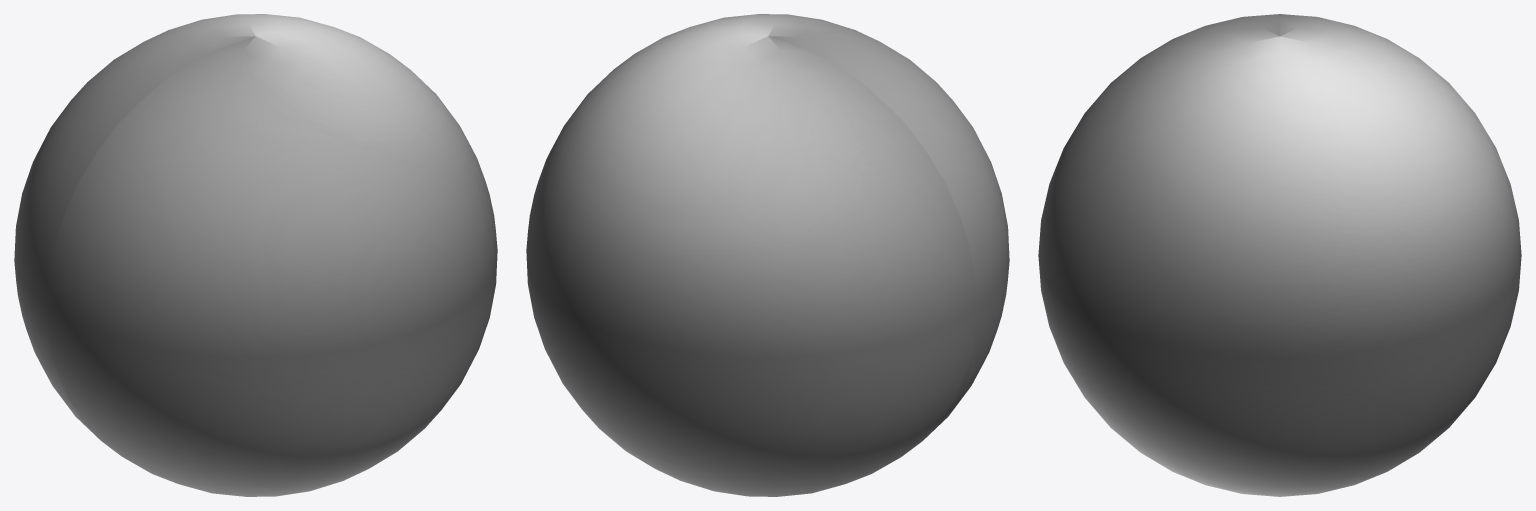
The model's file is Bola.obj.
3 renders of one model, left to right at view 1: azimuth 30°, elevation 25°; view 2: azimuth 150°, elevation 25°; view 3: azimuth 270°, elevation 25°, orthographic.
Visible parts, largest first — view 1: GeoSphere001; view 2: GeoSphere001; view 3: GeoSphere001.
Boxes of the visible parts, x1=… form: GeoSphere001: x1=14, y1=14, x2=497, y2=496; GeoSphere001: x1=526, y1=14, x2=1009, y2=496; GeoSphere001: x1=1038, y1=14, x2=1521, y2=496.
Size of the model in its own units: 2.46 by 2.46 by 2.46.
